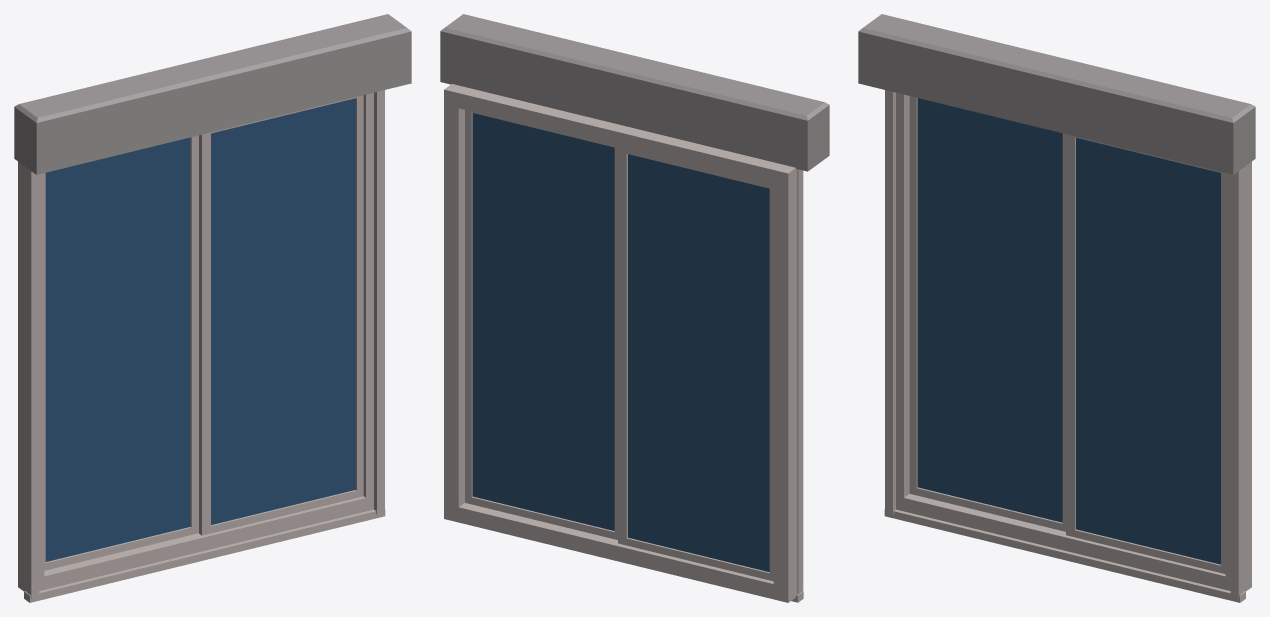
The model's file is SM_Opening_Window16520_Shutter_01.gltf.
The picture shows the model from 3 angles, left to right: view 1: azimuth 30°, elevation 25°; view 2: azimuth 150°, elevation 25°; view 3: azimuth 330°, elevation 25°; orthographic projection. The views are drawn at different scales.
Visible parts, largest first — view 1: SM_Opening_Window16520_Shutter_01; view 2: SM_Opening_Window16520_Shutter_01; view 3: SM_Opening_Window16520_Shutter_01.
Boxes of the visible parts, left/top/right/bottom form: SM_Opening_Window16520_Shutter_01: left=14, top=14, right=411, bottom=602; SM_Opening_Window16520_Shutter_01: left=440, top=14, right=829, bottom=602; SM_Opening_Window16520_Shutter_01: left=858, top=14, right=1255, bottom=602.
Bounding box in the file's own units: 1.89 × 2.39 × 0.265.
Materials: 1 (1 with a texture image).
